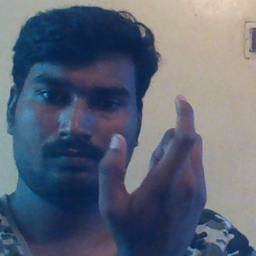U: (98, 88, 209, 243)
